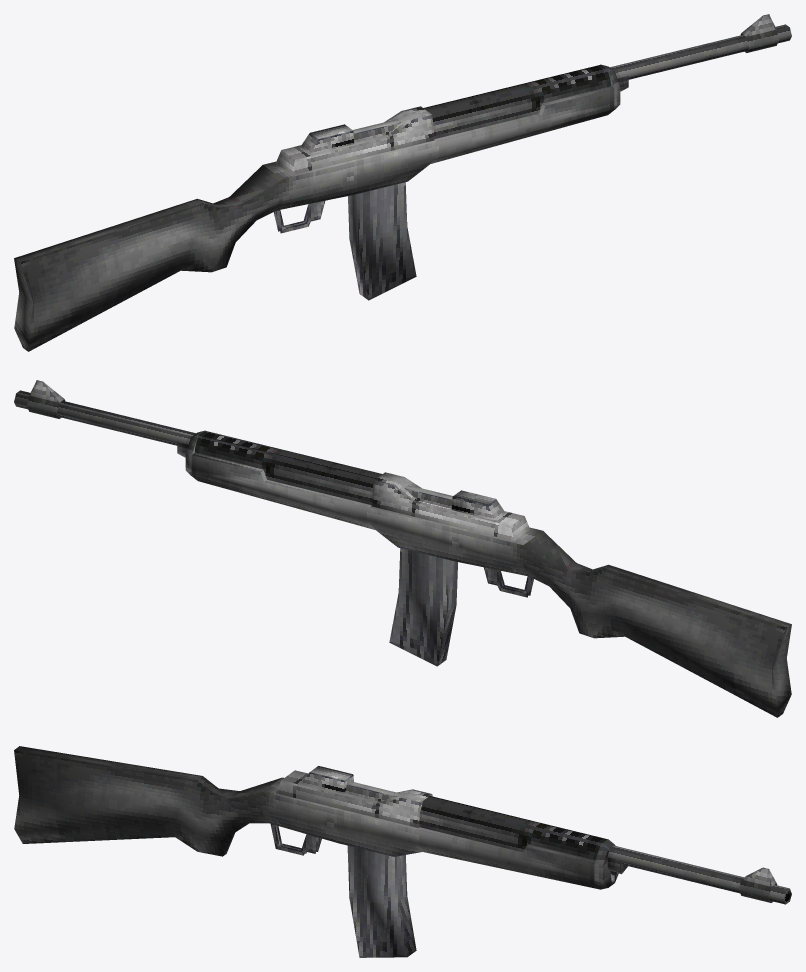
File: m14_gun__N000_m14_high_v0100.glb
3 renders of one model, top to bottom at view 1: azimuth 30°, elevation 25°; view 2: azimuth 150°, elevation 25°; view 3: azimuth 330°, elevation 25°, orthographic.
Parts seen in each view (by area): view 1: N000_m14_high_v0100; view 2: N000_m14_high_v0100; view 3: N000_m14_high_v0100.
Boxes of the visible parts, left/top/right/bottom form: N000_m14_high_v0100: left=14, top=14, right=791, bottom=351; N000_m14_high_v0100: left=14, top=380, right=791, bottom=717; N000_m14_high_v0100: left=14, top=746, right=791, bottom=957.
Bounding box in the file's own units: 0.962 × 0.2198 × 0.0427.
Materials: 2 (2 with a texture image).
